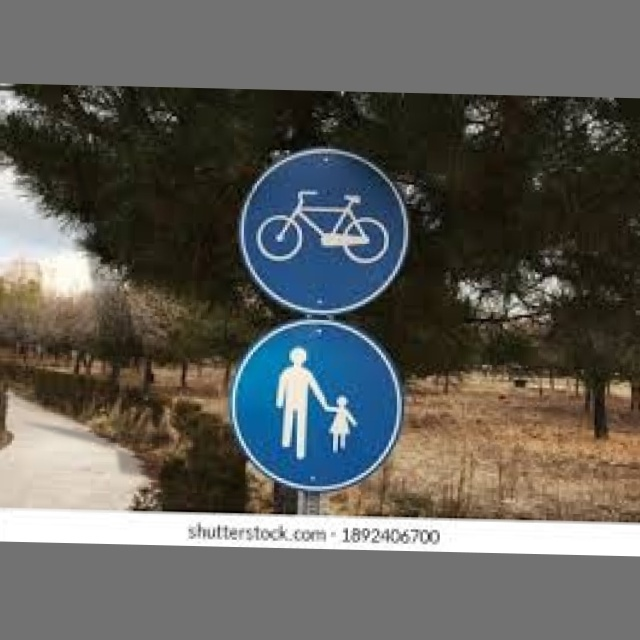Compulsory_Cycle_Track: (237, 147, 411, 312)
